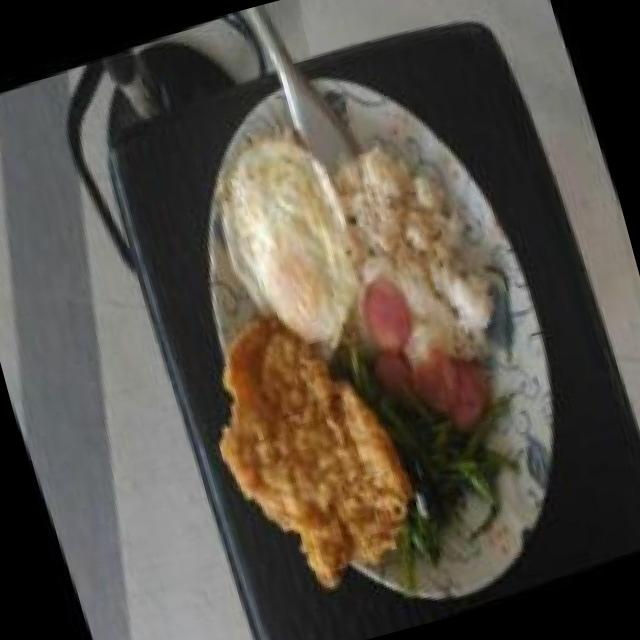chinese_sausage: (352, 258, 499, 444)
fried_chicken: (177, 280, 430, 617)
fried_eggs: (192, 115, 388, 367)
rice: (328, 128, 488, 350)
water_spinach: (390, 400, 520, 520)
